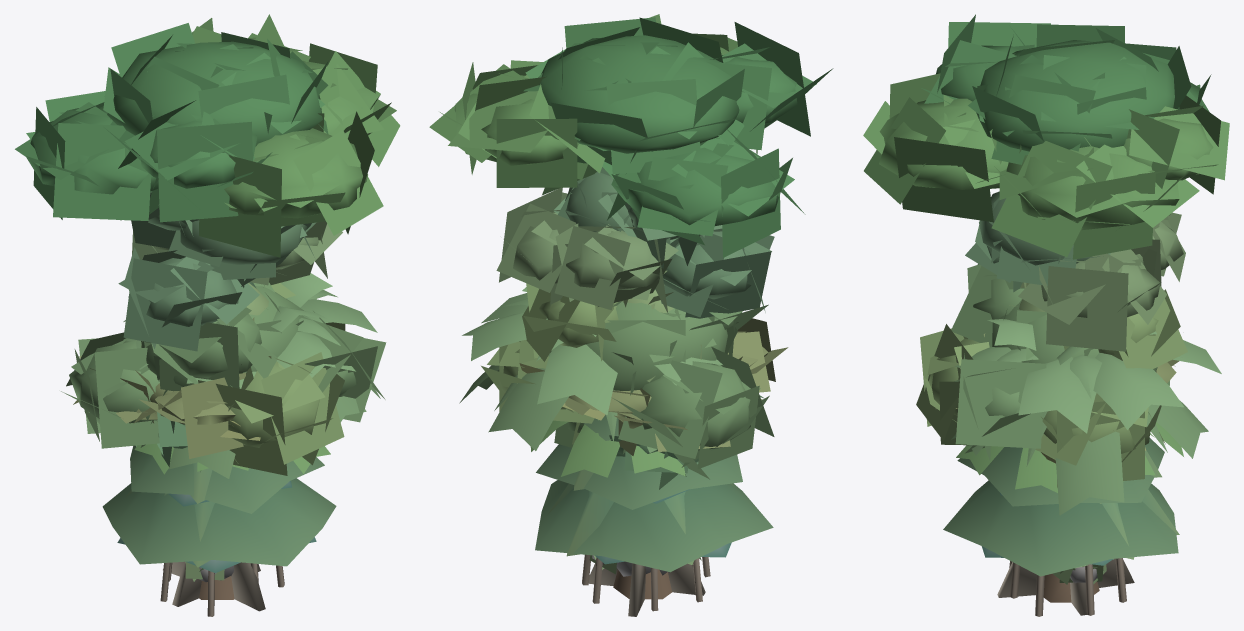
The model's file is world_trees.glb.
The picture shows the model from 3 angles, left to right: view 1: azimuth 30°, elevation 25°; view 2: azimuth 150°, elevation 25°; view 3: azimuth 270°, elevation 25°; orthographic projection.
Parts seen in each view (by area): view 1: Urwaldbaum, Urwaldbaum_massiv, Eiche, Fichte, Kiefer, Eiche_massiv, Palme, Kiefer_massiv, Akazie, Mangrove, Akazie_massiv, Fichte_massiv (+3 smaller); view 2: Urwaldbaum, Urwaldbaum_massiv, Fichte, Kiefer, Eiche, Eiche_massiv, Palme, Kiefer_massiv, Akazie, Baumfarn, Mangrove, Fichte_massiv (+1 smaller); view 3: Urwaldbaum, Urwaldbaum_massiv, Eiche, Fichte, Palme, Kiefer, Eiche_massiv, Kiefer_massiv, Baumfarn, Palme_massiv, Mangrove, Fichte_massiv.
Part boxes in pixels (box(x1,y1,x2,y2)): Urwaldbaum: box(15, 14, 400, 611); Urwaldbaum_massiv: box(26, 37, 380, 218); Eiche: box(61, 282, 386, 599); Fichte: box(102, 282, 336, 566); Kiefer: box(118, 193, 342, 351); Eiche_massiv: box(69, 286, 356, 447); Palme: box(123, 273, 380, 478); Kiefer_massiv: box(146, 191, 318, 326); Akazie: box(73, 355, 260, 458); Mangrove: box(136, 412, 284, 616); Akazie_massiv: box(136, 383, 240, 426); Fichte_massiv: box(126, 279, 245, 567); Urwaldbaum: box(429, 14, 833, 616); Urwaldbaum_massiv: box(454, 35, 797, 225); Fichte: box(535, 247, 773, 572); Kiefer: box(496, 167, 774, 318); Eiche: box(481, 283, 774, 599); Eiche_massiv: box(496, 300, 757, 450); Palme: box(459, 287, 722, 452); Kiefer_massiv: box(513, 171, 751, 299); Akazie: box(504, 318, 788, 455); Baumfarn: box(530, 419, 685, 477); Mangrove: box(554, 395, 764, 611); Fichte_massiv: box(547, 469, 734, 564); Urwaldbaum: box(863, 14, 1229, 615); Urwaldbaum_massiv: box(879, 40, 1213, 230); Eiche: box(916, 264, 1187, 602); Fichte: box(943, 438, 1178, 576); Palme: box(951, 319, 1221, 515); Kiefer: box(965, 197, 1185, 351); Eiche_massiv: box(928, 278, 1158, 459); Kiefer_massiv: box(979, 191, 1183, 317); Baumfarn: box(956, 422, 1183, 492); Palme_massiv: box(997, 349, 1184, 466); Mangrove: box(1009, 558, 1126, 616); Fichte_massiv: box(1099, 450, 1179, 559).
Size of the model in its own units: 10.39 by 15.15 by 9.41.
